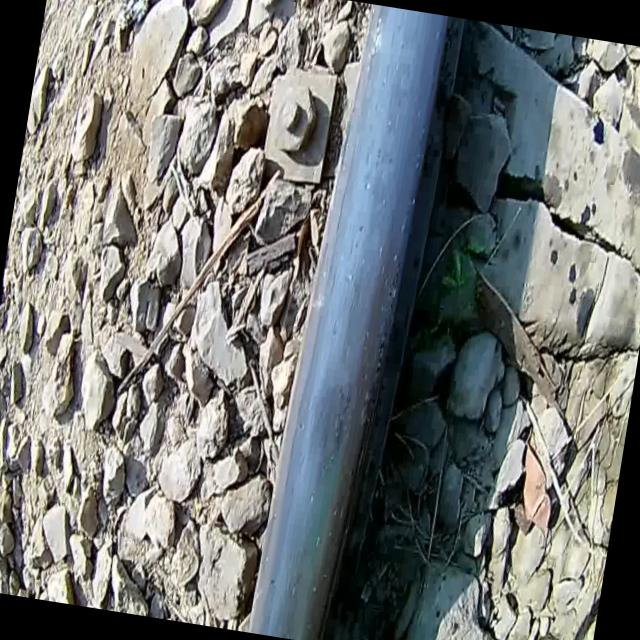Squats: (266, 352, 402, 515)
